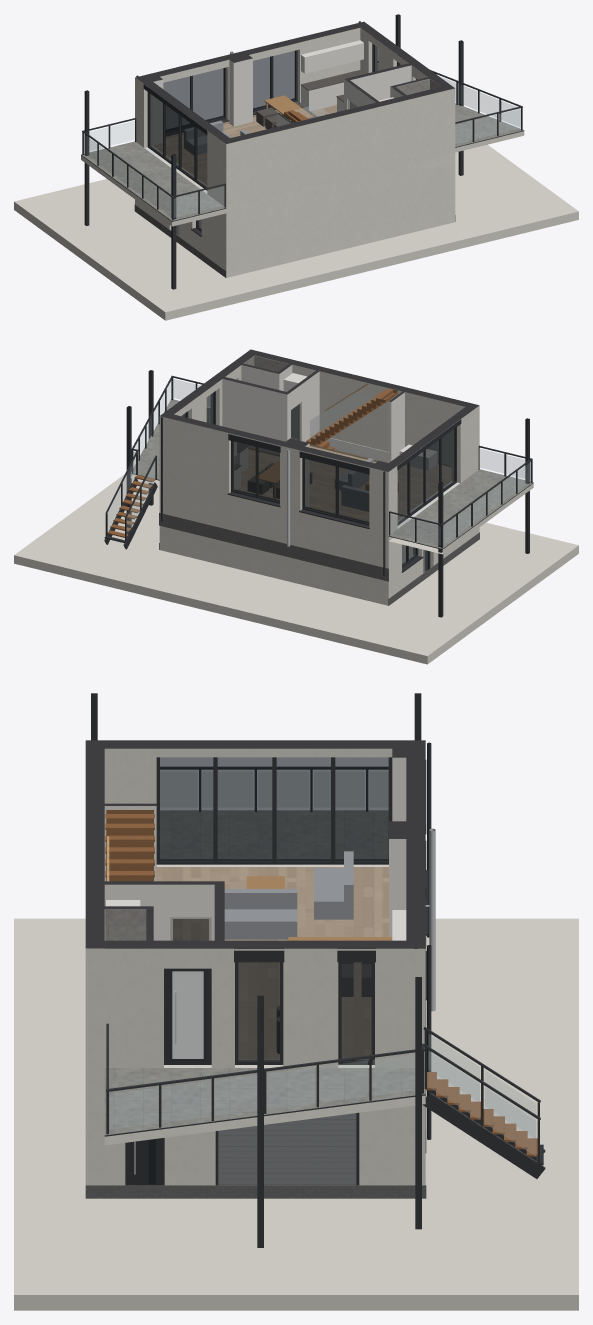
Rendered from dum_b_1np.glb.
The picture shows the model from 3 angles, top to bottom: view 1: azimuth 30°, elevation 25°; view 2: azimuth 150°, elevation 25°; view 3: azimuth 270°, elevation 25°; orthographic projection. The views are drawn at different scales.
Parts seen in each view (by area): view 1: B_ext_omitka, podstava, B_sklo_sklo, B_ext_antracit, B_ext_dlazba_balkon, B_ext_sklo_zabradli, rez_sten, B_int_omitka_int, pevne_vinyl, kuchyn_horni, kuchyn_linka, B_ext_sokl (+4 smaller); view 2: podstava, B_ext_omitka, B_ext_antracit, B_sklo_sklo, B_int_omitka_int, B_ext_dlazba_balkon, B_ext_sklo_zabradli, rez_sten, pevne_vinyl, B_ext_sokl, B_int_drevo, pevne_sklo_sprcha (+6 smaller); view 3: podstava, B_ext_omitka, B_sklo_sklo, B_ext_dlazba_balkon, B_ext_antracit, rez_sten, B_ext_sklo_zabradli, pevne_vinyl, B_ext_vrata, B_int_omitka_int, B_ext_sokl, sedacka_1 (+8 smaller).
Part boxes in pixels (x1,y1,x2,y2): B_ext_omitka: (81,27,524,277); podstava: (14,144,578,320); B_sklo_sklo: (149,45,400,236); B_ext_antracit: (81,14,524,289); B_ext_dlazba_balkon: (81,103,523,220); B_ext_sklo_zabradli: (84,77,520,217); rez_sten: (135,21,454,143); B_int_omitka_int: (153,58,428,145); pevne_vinyl: (153,105,336,184); kuchyn_horni: (301,40,363,73); kuchyn_linka: (301,82,343,110); B_ext_sokl: (134,204,455,277); podstava: (14,474,578,664); B_ext_omitka: (130,355,533,605); B_ext_antracit: (104,370,533,617); B_sklo_sklo: (182,392,455,572); B_int_omitka_int: (222,365,404,506); B_ext_dlazba_balkon: (131,399,533,548); B_ext_sklo_zabradli: (108,379,530,545); rez_sten: (160,349,478,471); pevne_vinyl: (237,437,451,521); B_ext_sokl: (159,512,479,605); B_int_drevo: (306,388,397,449); pevne_sklo_sprcha: (310,393,375,440); podstava: (14,918,578,1310); B_ext_omitka: (85,748,425,1185); B_sklo_sklo: (148,757,388,1184); B_ext_dlazba_balkon: (104,810,425,1135); B_ext_antracit: (91,693,545,1247); rez_sten: (85,740,425,948); B_ext_sklo_zabradli: (110,1034,536,1156); pevne_vinyl: (156,867,388,1059); B_ext_vrata: (218,1113,356,1185); B_int_omitka_int: (104,758,406,948); B_ext_sokl: (85,936,426,1198); sedacka_1: (224,889,297,939).
Bounding box in the file's own units: 18.6 × 6.14 × 11.8.
Materials: 31 (9 with a texture image).
